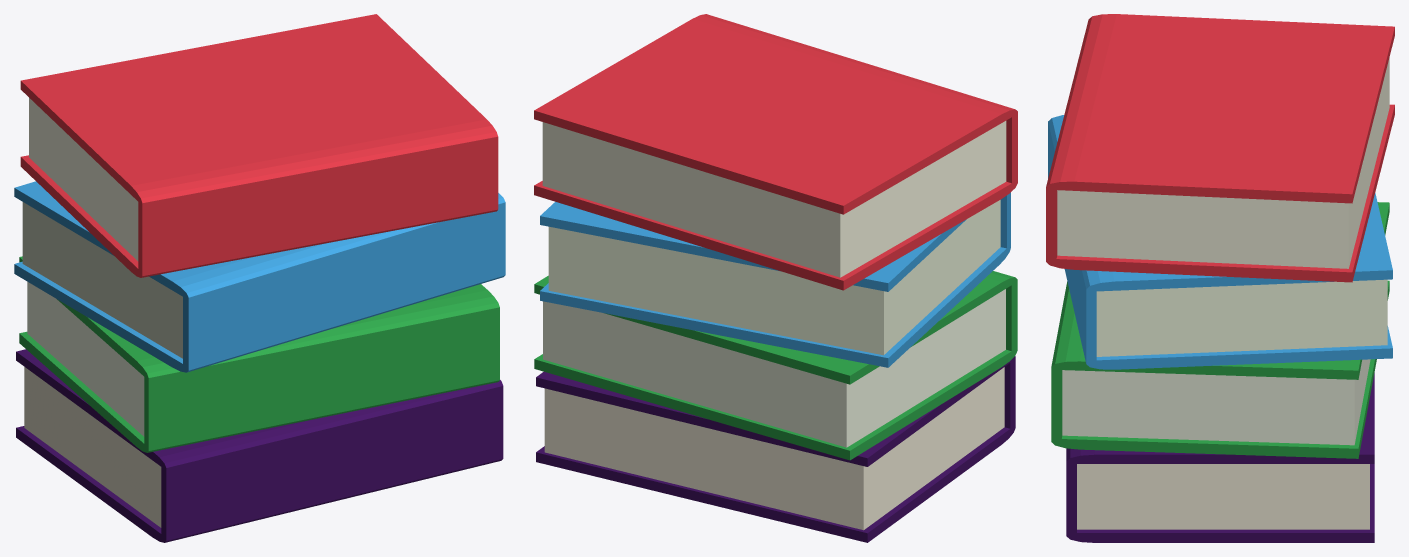
Rendered from Book_Stack 1.fbx.
The picture shows the model from 3 angles, left to right: view 1: azimuth 30°, elevation 25°; view 2: azimuth 150°, elevation 25°; view 3: azimuth 270°, elevation 25°; orthographic projection. The views are drawn at different scales.
Parts seen in each view (by area): view 1: Cube.002, Cube.003, Cube, Cube.001; view 2: Cube.002, Cube.001, Cube, Cube.003; view 3: Cube.002, Cube.003, Cube.001, Cube.
Part boxes in pixels (box(x1,y1,x2,y2)): Cube.002: box(20, 14, 498, 277); Cube.003: box(14, 181, 505, 372); Cube: box(16, 349, 503, 542); Cube.001: box(19, 256, 499, 452); Cube.002: box(534, 14, 1017, 290); Cube.001: box(534, 271, 1017, 460); Cube: box(536, 356, 1015, 542); Cube.003: box(540, 192, 1010, 367); Cube.002: box(1046, 14, 1394, 282); Cube.003: box(1048, 115, 1392, 369); Cube.001: box(1051, 202, 1389, 458); Cube: box(1066, 373, 1374, 542).
Bounding box in the file's own units: 17.9 × 16.32 × 14.54.
